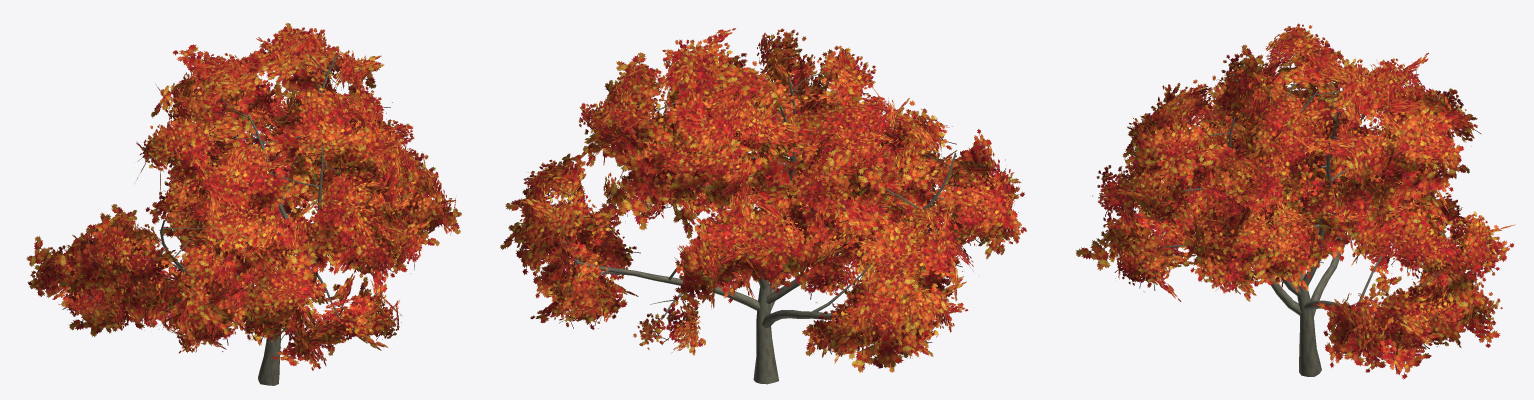
The model's file is Momiji_B.fbx.
3 views of the same model, side by side, from view 1: azimuth 30°, elevation 25°; view 2: azimuth 150°, elevation 25°; view 3: azimuth 270°, elevation 25° (orthographic). The views are drawn at different scales.
Parts seen in each view (by area): view 1: Momiji_B; view 2: Momiji_B; view 3: Momiji_B.
Part boxes in pixels (<box>): Momiji_B: <box>26,23,461,385</box>; Momiji_B: <box>500,28,1026,384</box>; Momiji_B: <box>1076,23,1515,379</box>.
Size of the model in its own units: 10.51 by 7.95 by 9.4.
2 materials, 2 textured.
